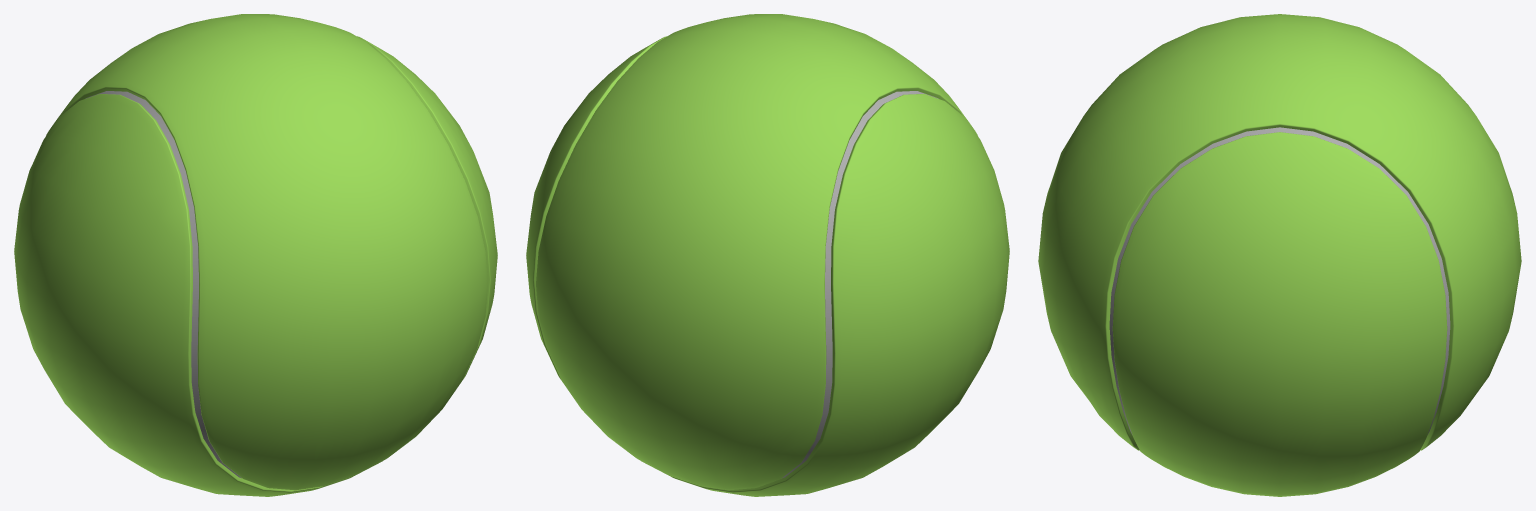
File: Tennis ball(1).fbx
3 views of the same model, side by side, from view 1: azimuth 30°, elevation 25°; view 2: azimuth 150°, elevation 25°; view 3: azimuth 270°, elevation 25° (orthographic).
Parts seen in each view (by area): view 1: pCube2; view 2: pCube2; view 3: pCube2.
Boxes of the visible parts, x1=… form: pCube2: x1=14, y1=14, x2=497, y2=496; pCube2: x1=526, y1=14, x2=1009, y2=496; pCube2: x1=1038, y1=14, x2=1521, y2=496.
Size of the model in its own units: 12.7 by 12.71 by 12.7.
